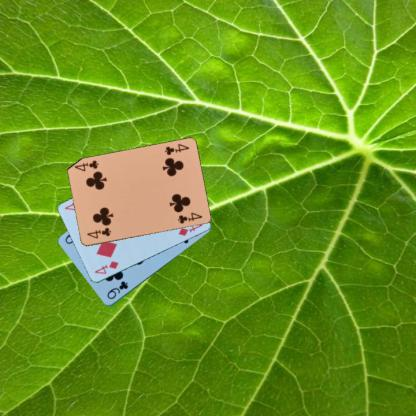4c: (84, 225, 112, 240), (162, 142, 190, 156)
4d: (92, 258, 119, 276)
9c: (104, 278, 129, 300)
